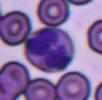N: (24, 28, 74, 72)
